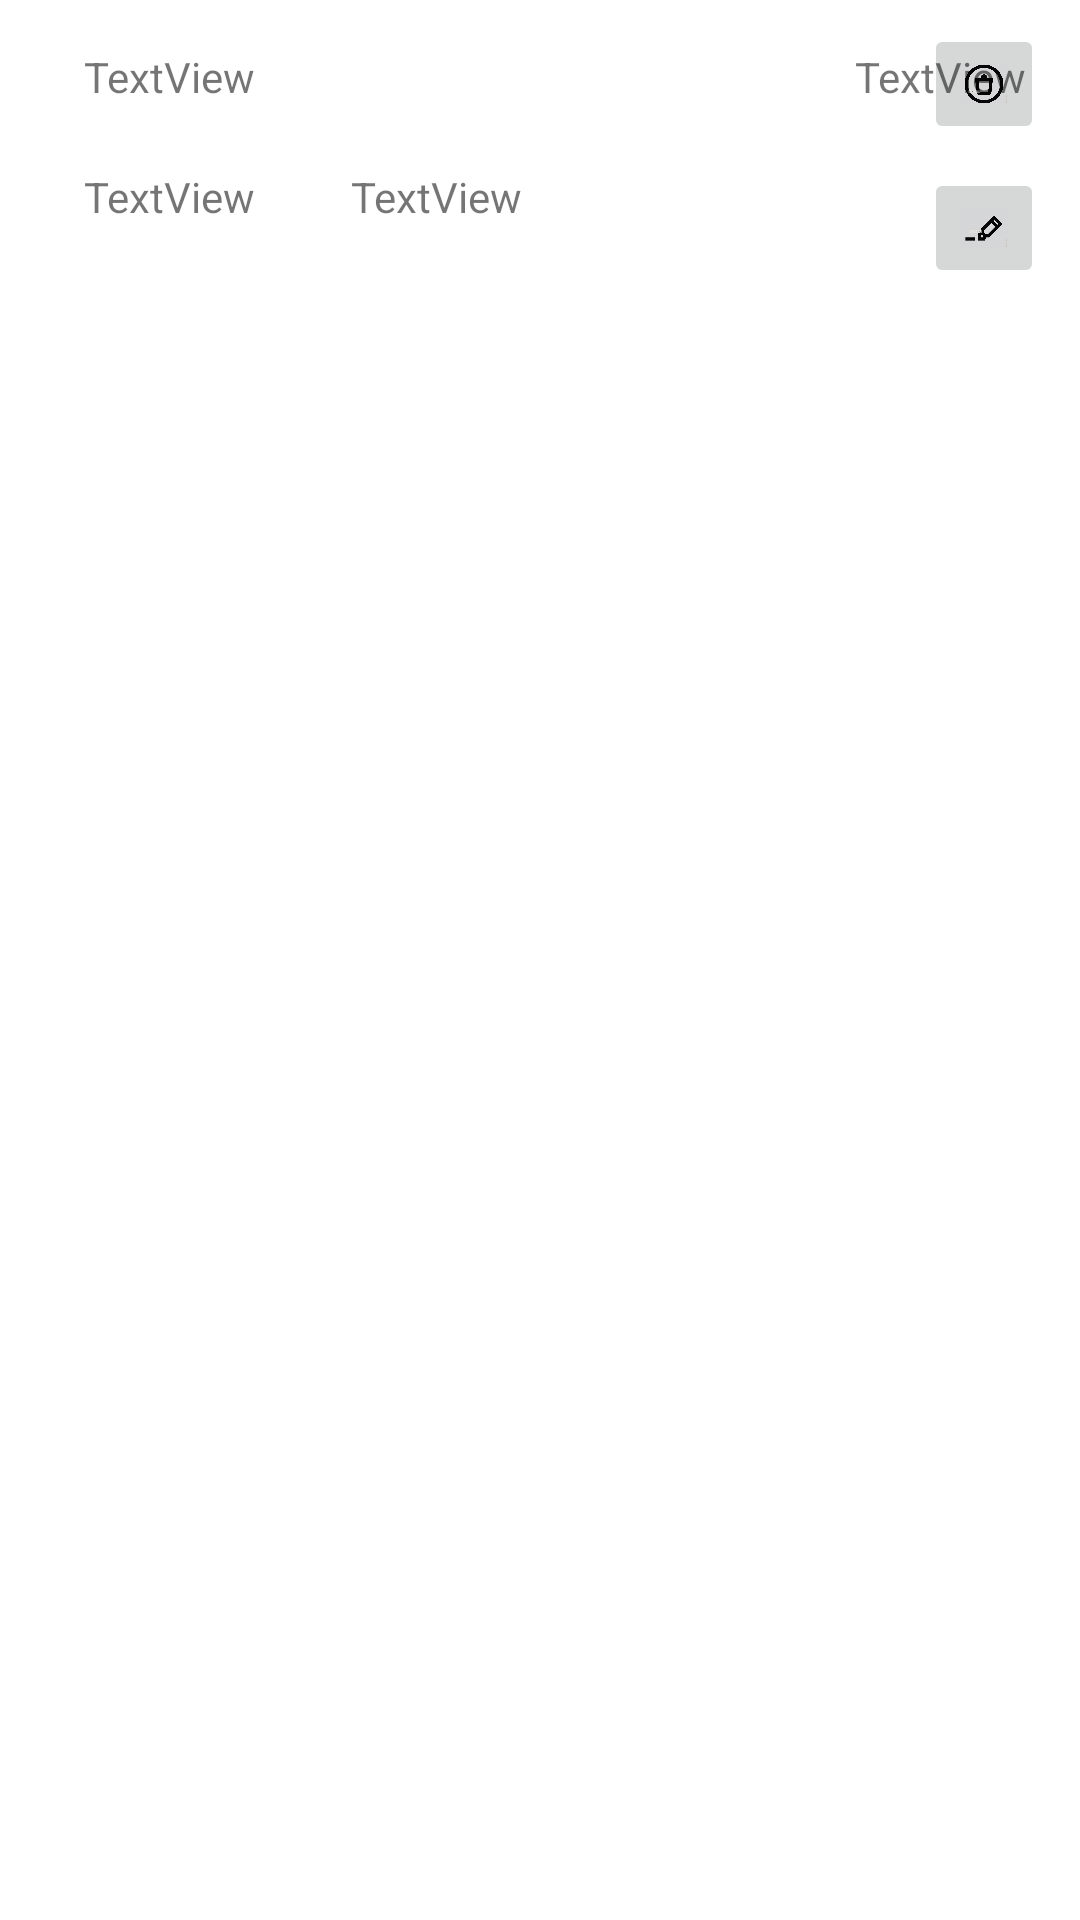

Locate icon controls on the screen. Image size 1080×1920, boxes as Rect(x1, y1, x2, y2).
edit: Rect(936, 186, 1032, 270)
